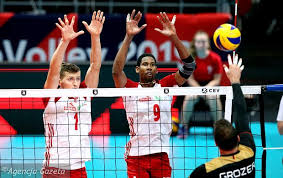ball: (213, 23, 241, 51)
